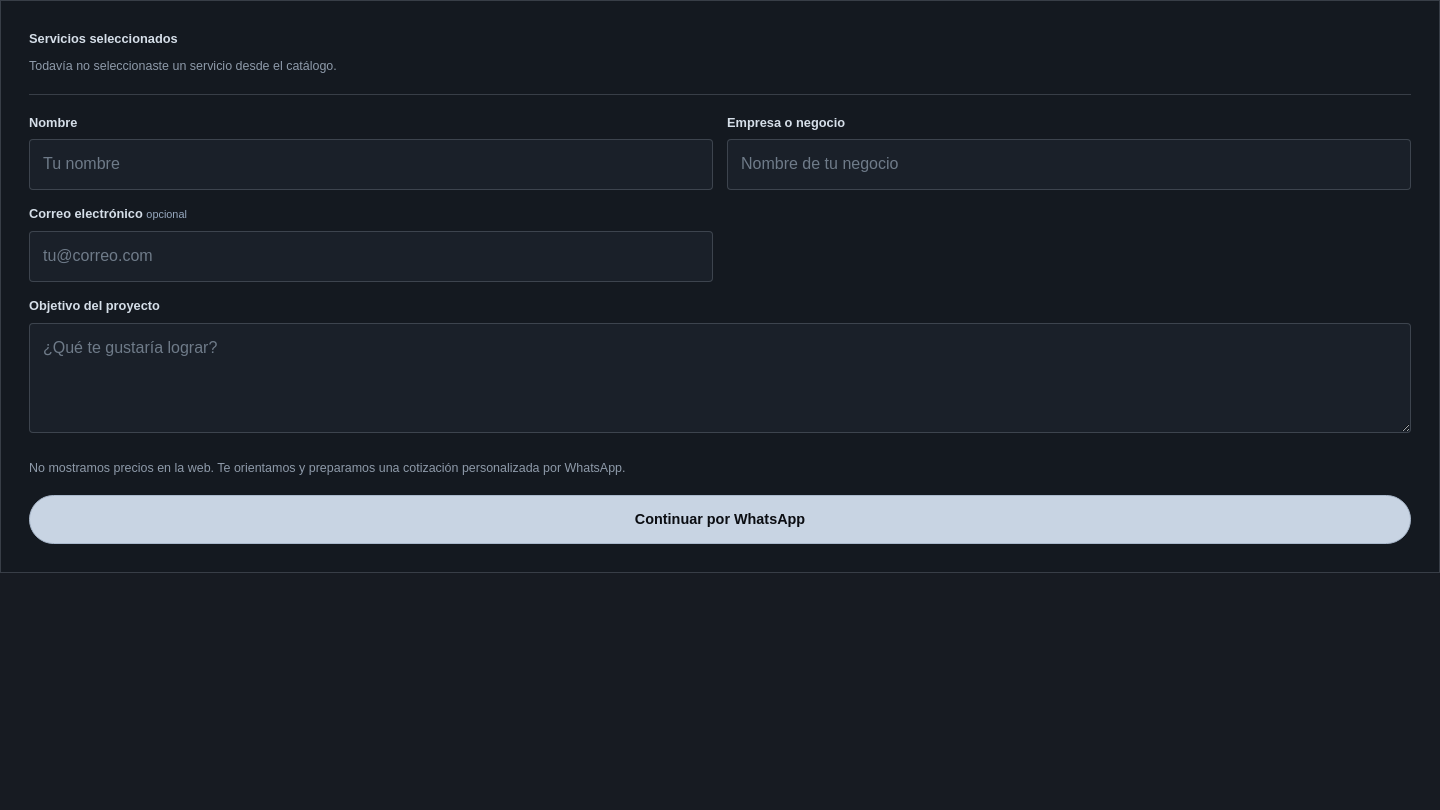
Test: QuoteForm › requires name, services, and objective
Step 1. Click the button "Continuar por WhatsApp" → (720, 519), box [29,495,1411,544]
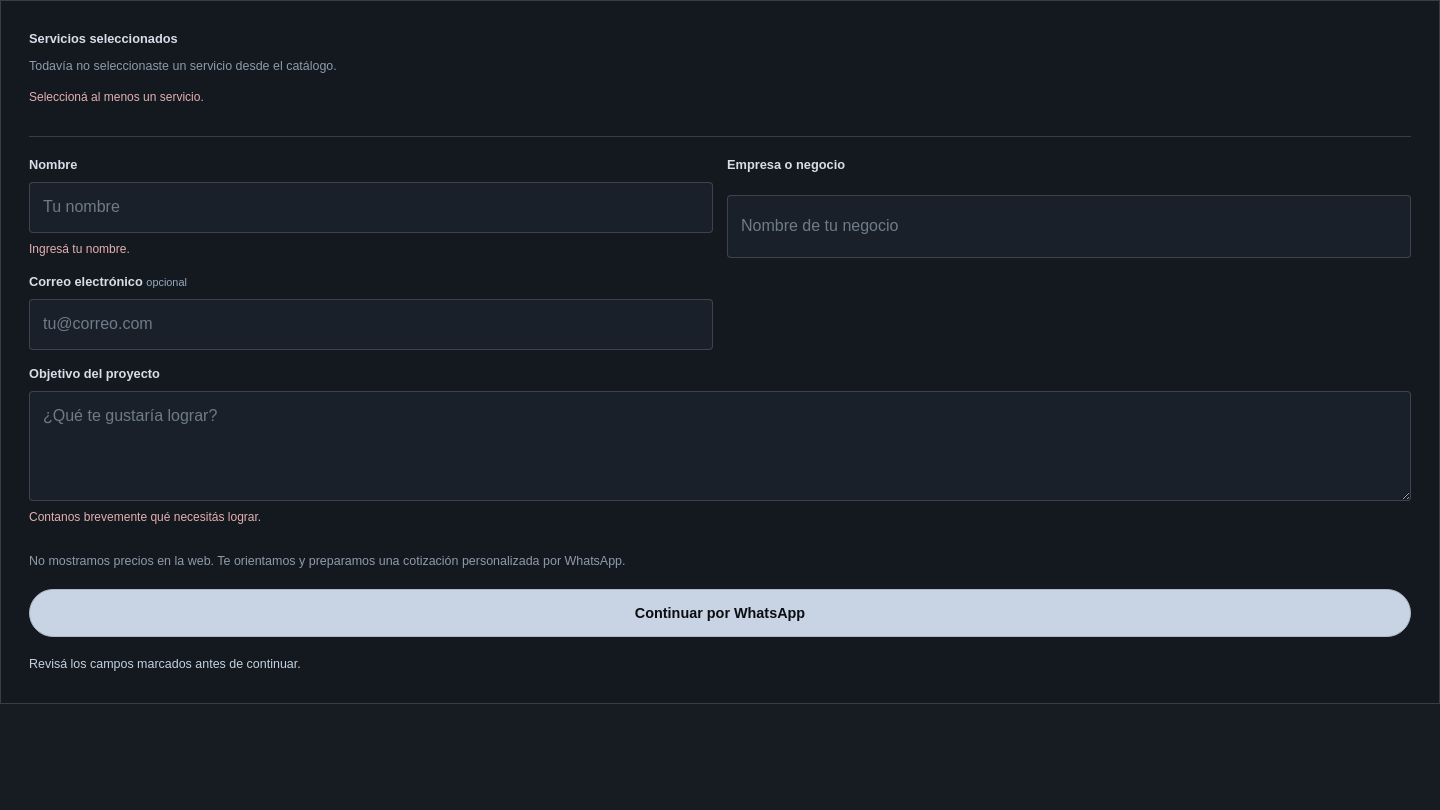
Expected: the text "Ingresá tu nombre." is shown, [29,242,130,256]
Expected: the text "Seleccioná al menos un servicio." is shown, [29,90,204,104]
Expected: the text "Contanos brevemente qué necesitás lograr." is shown, [29,510,261,524]
